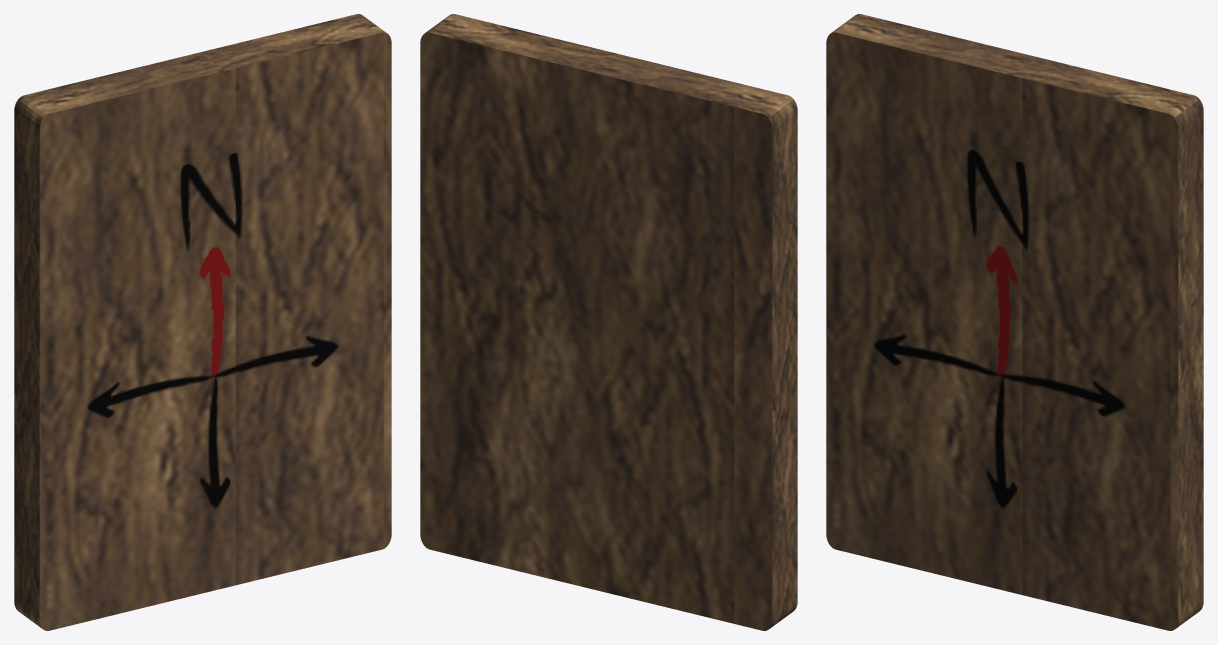
The model's file is f_kompas.fbx.
3 renders of one model, left to right at view 1: azimuth 30°, elevation 25°; view 2: azimuth 150°, elevation 25°; view 3: azimuth 330°, elevation 25°, orthographic.
Visible parts, largest first — view 1: f_slab.002; view 2: f_slab.002; view 3: f_slab.002.
Part boxes in pixels (x1=…): f_slab.002: x1=14, y1=14, x2=391, y2=630; f_slab.002: x1=420, y1=14, x2=797, y2=630; f_slab.002: x1=826, y1=14, x2=1203, y2=630.
Bounding box in the file's own units: 130 × 183 × 16.22.
Materials: 1 (1 with a texture image).
